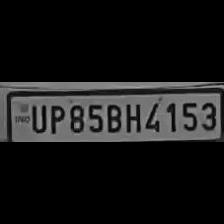1: (162, 100, 178, 132)
3: (198, 99, 218, 131)
4: (142, 99, 162, 133)
5: (178, 99, 198, 131), (85, 100, 103, 134)
8: (66, 102, 84, 134)
B: (103, 100, 121, 134)
H: (123, 99, 141, 133)
P: (47, 102, 65, 136)
U: (28, 102, 46, 134)
